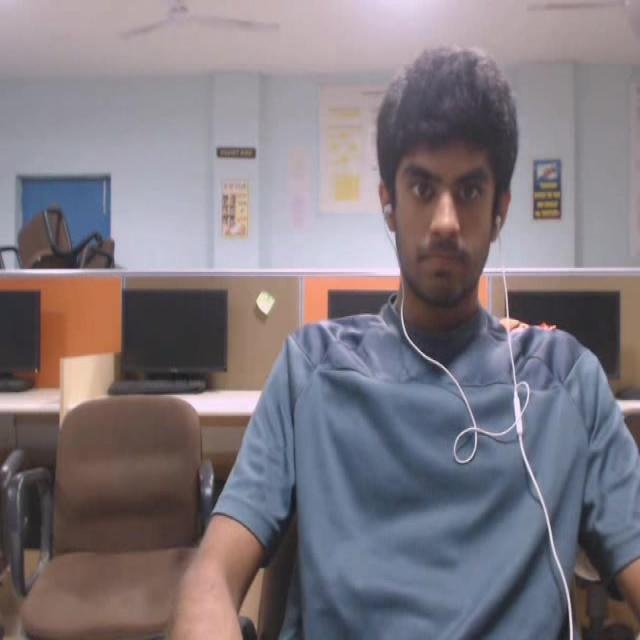Engaged: (351, 35, 539, 351)
